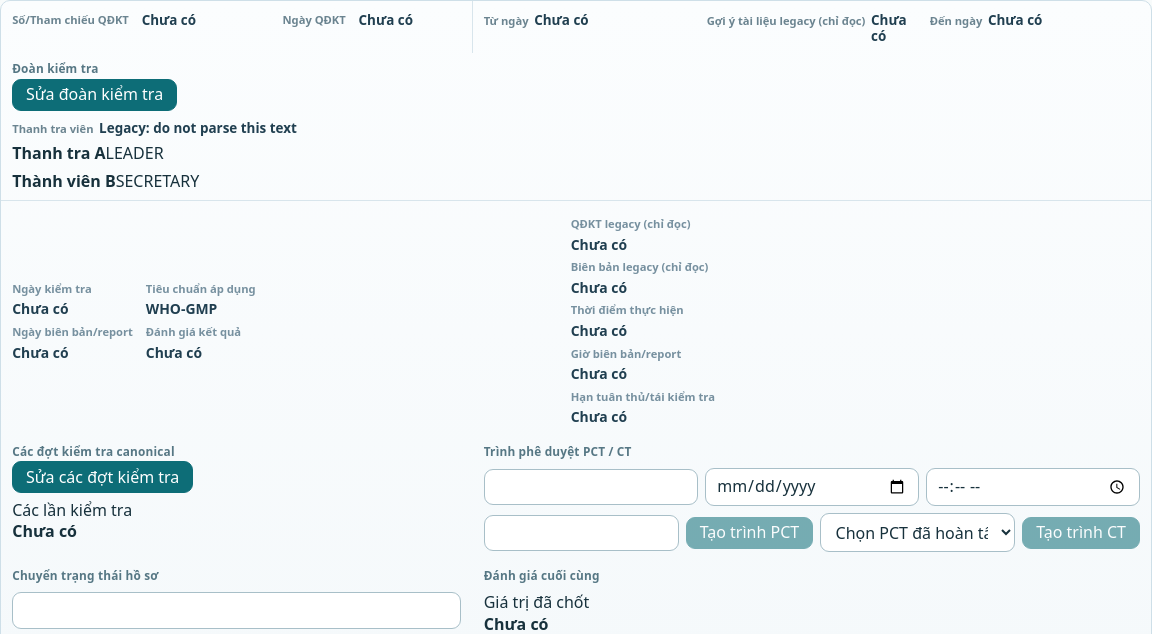
Test: CaseInspectionWorkspace inspection team editor › surfaces a stale conflict and discards the open draft
Step 1. Click the button "Sửa đoàn kiểm tra" → (95, 95), box [12, 79, 177, 111]
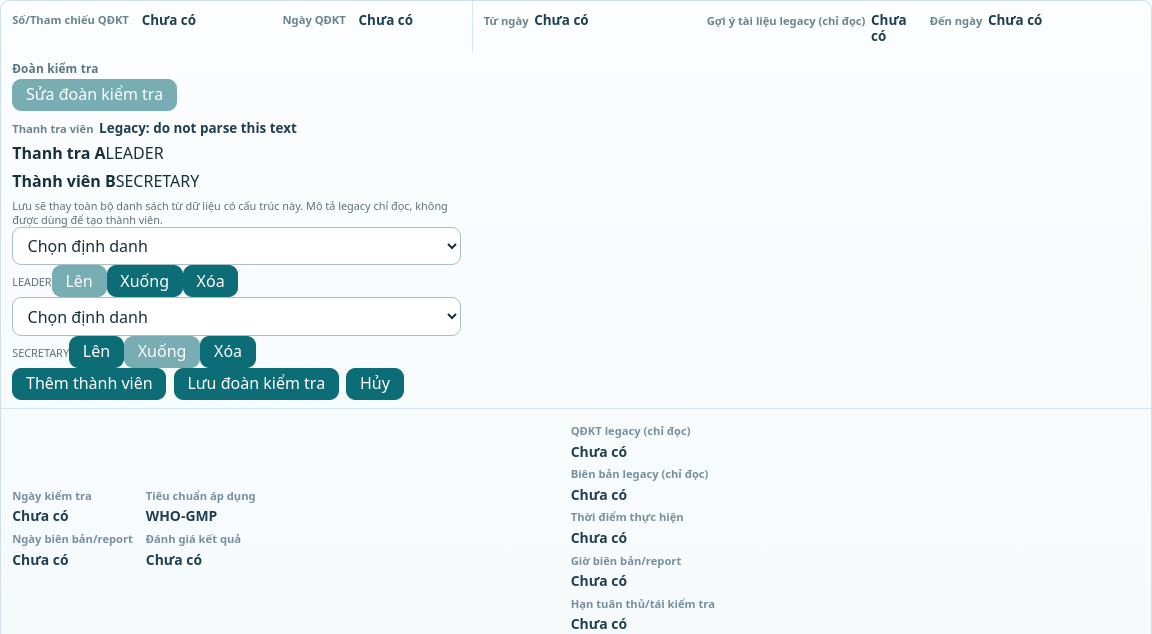
Expected: the dropdown named "Định danh thành viên 1" is shown, [12, 227, 461, 265]
Step 2. Click the button "Lưu đoàn kiểm tra" → (256, 384), box [174, 368, 339, 400]
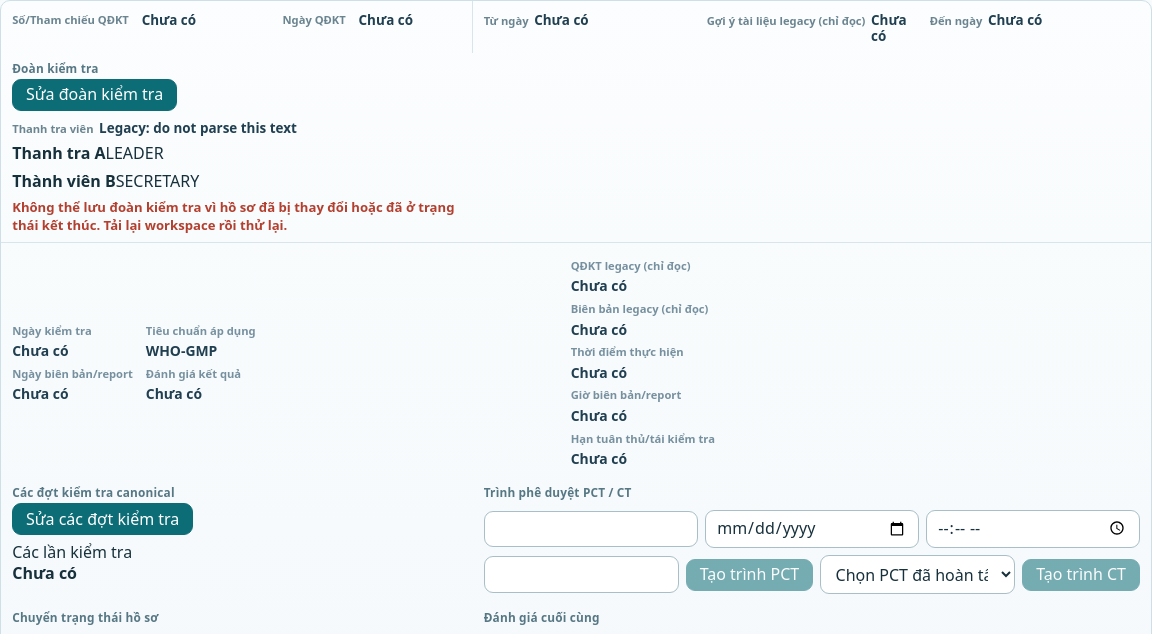
Expected: the message shows "đã bị thay đổi", [12, 198, 454, 234]
